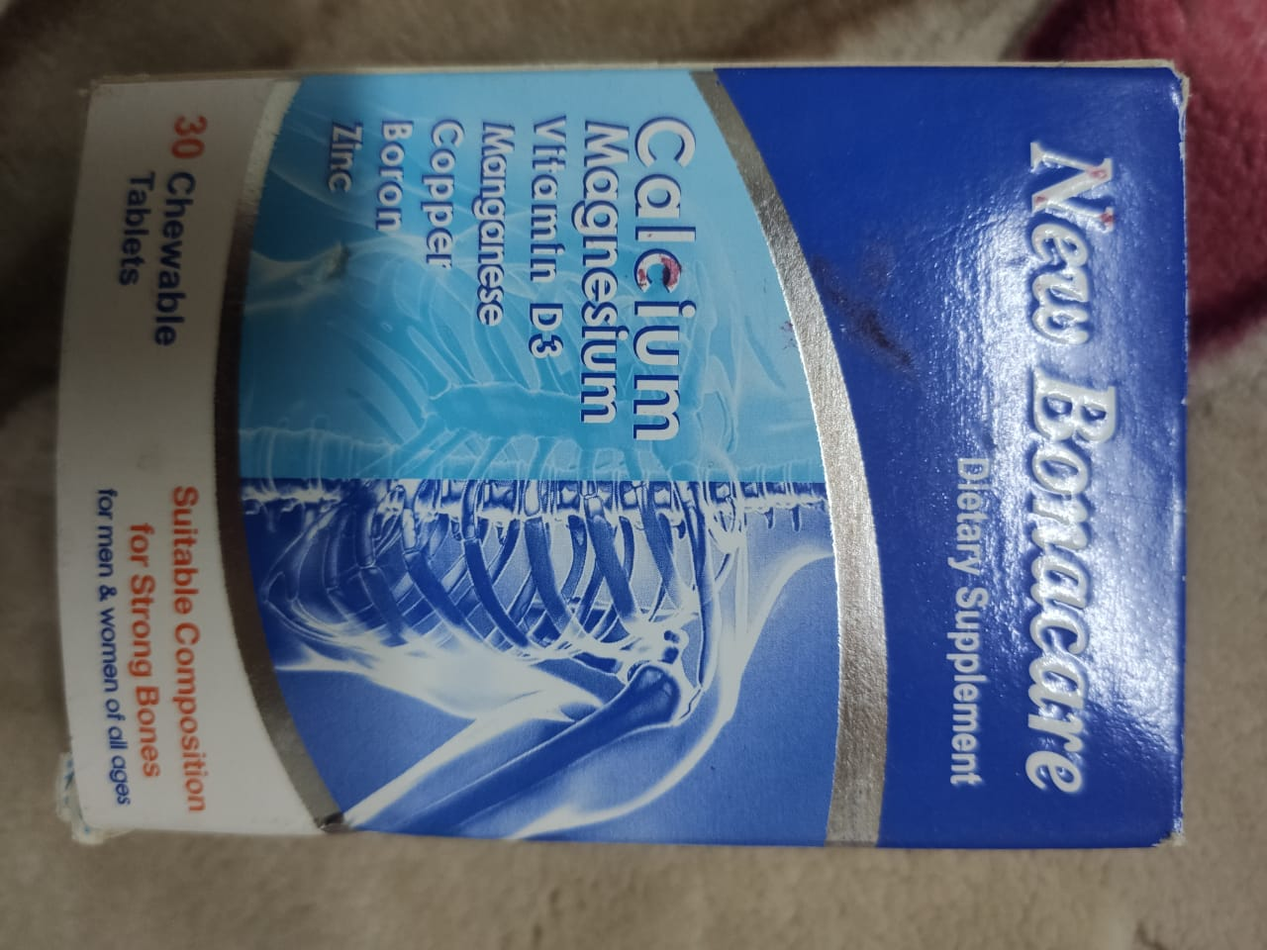Medicine: (42, 59, 1200, 878)
